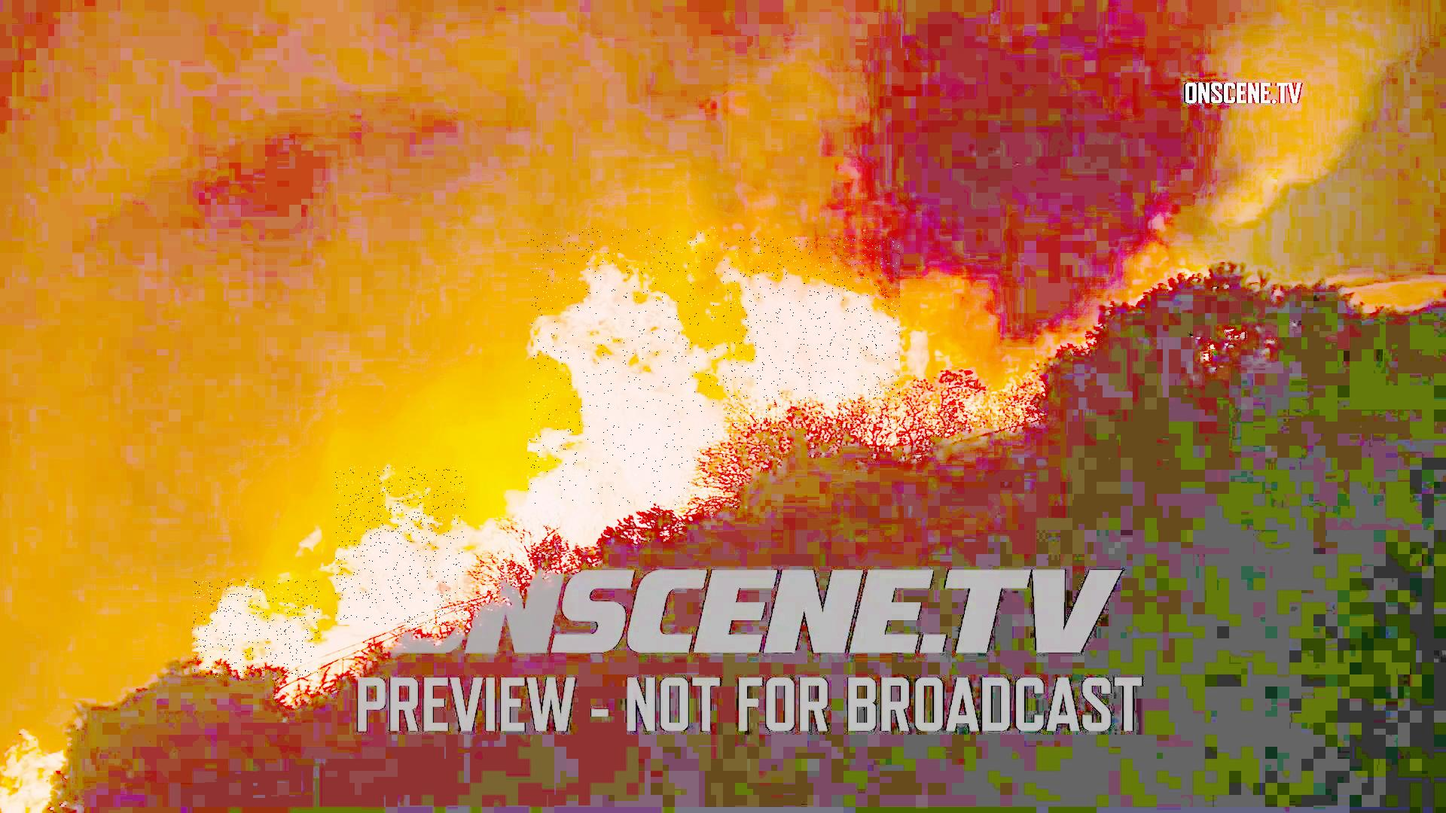fire: (527, 228, 718, 506), (723, 238, 900, 426), (336, 467, 466, 625), (193, 580, 320, 678)
